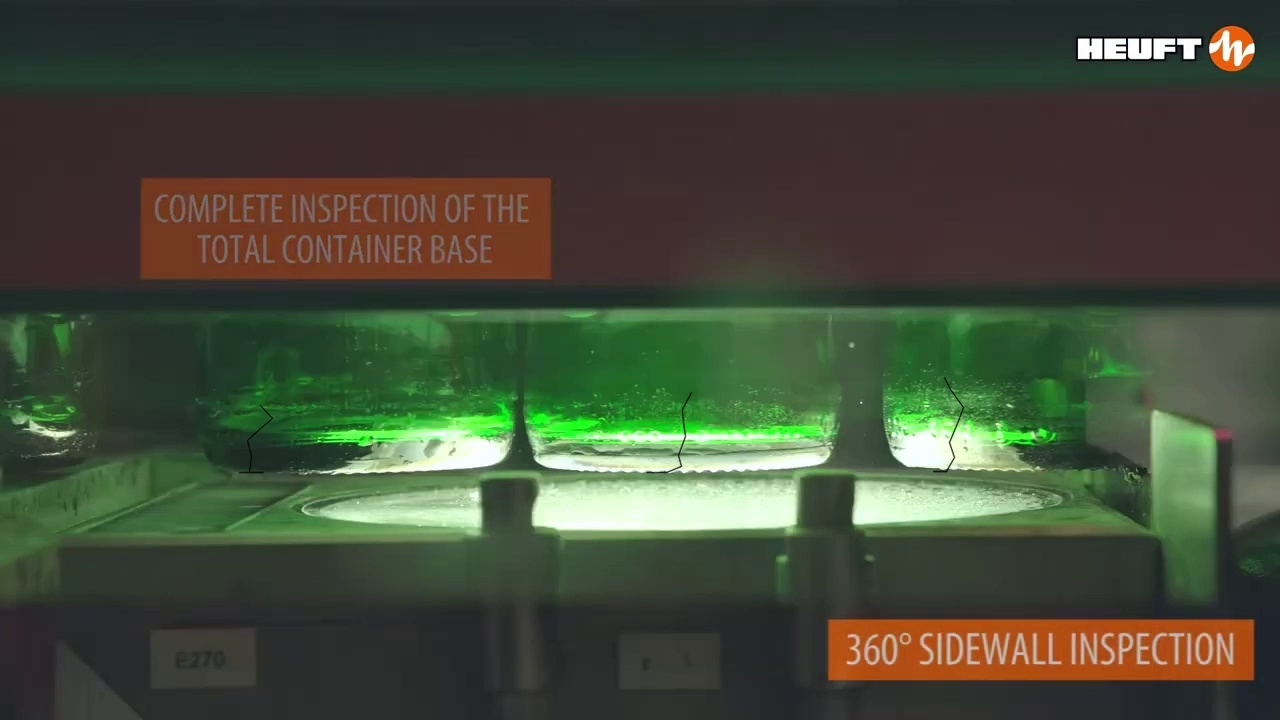bottle: (197, 315, 517, 474), (518, 313, 836, 473), (884, 307, 1096, 469)
crack: (646, 392, 691, 472), (933, 377, 963, 471), (239, 405, 272, 472)
